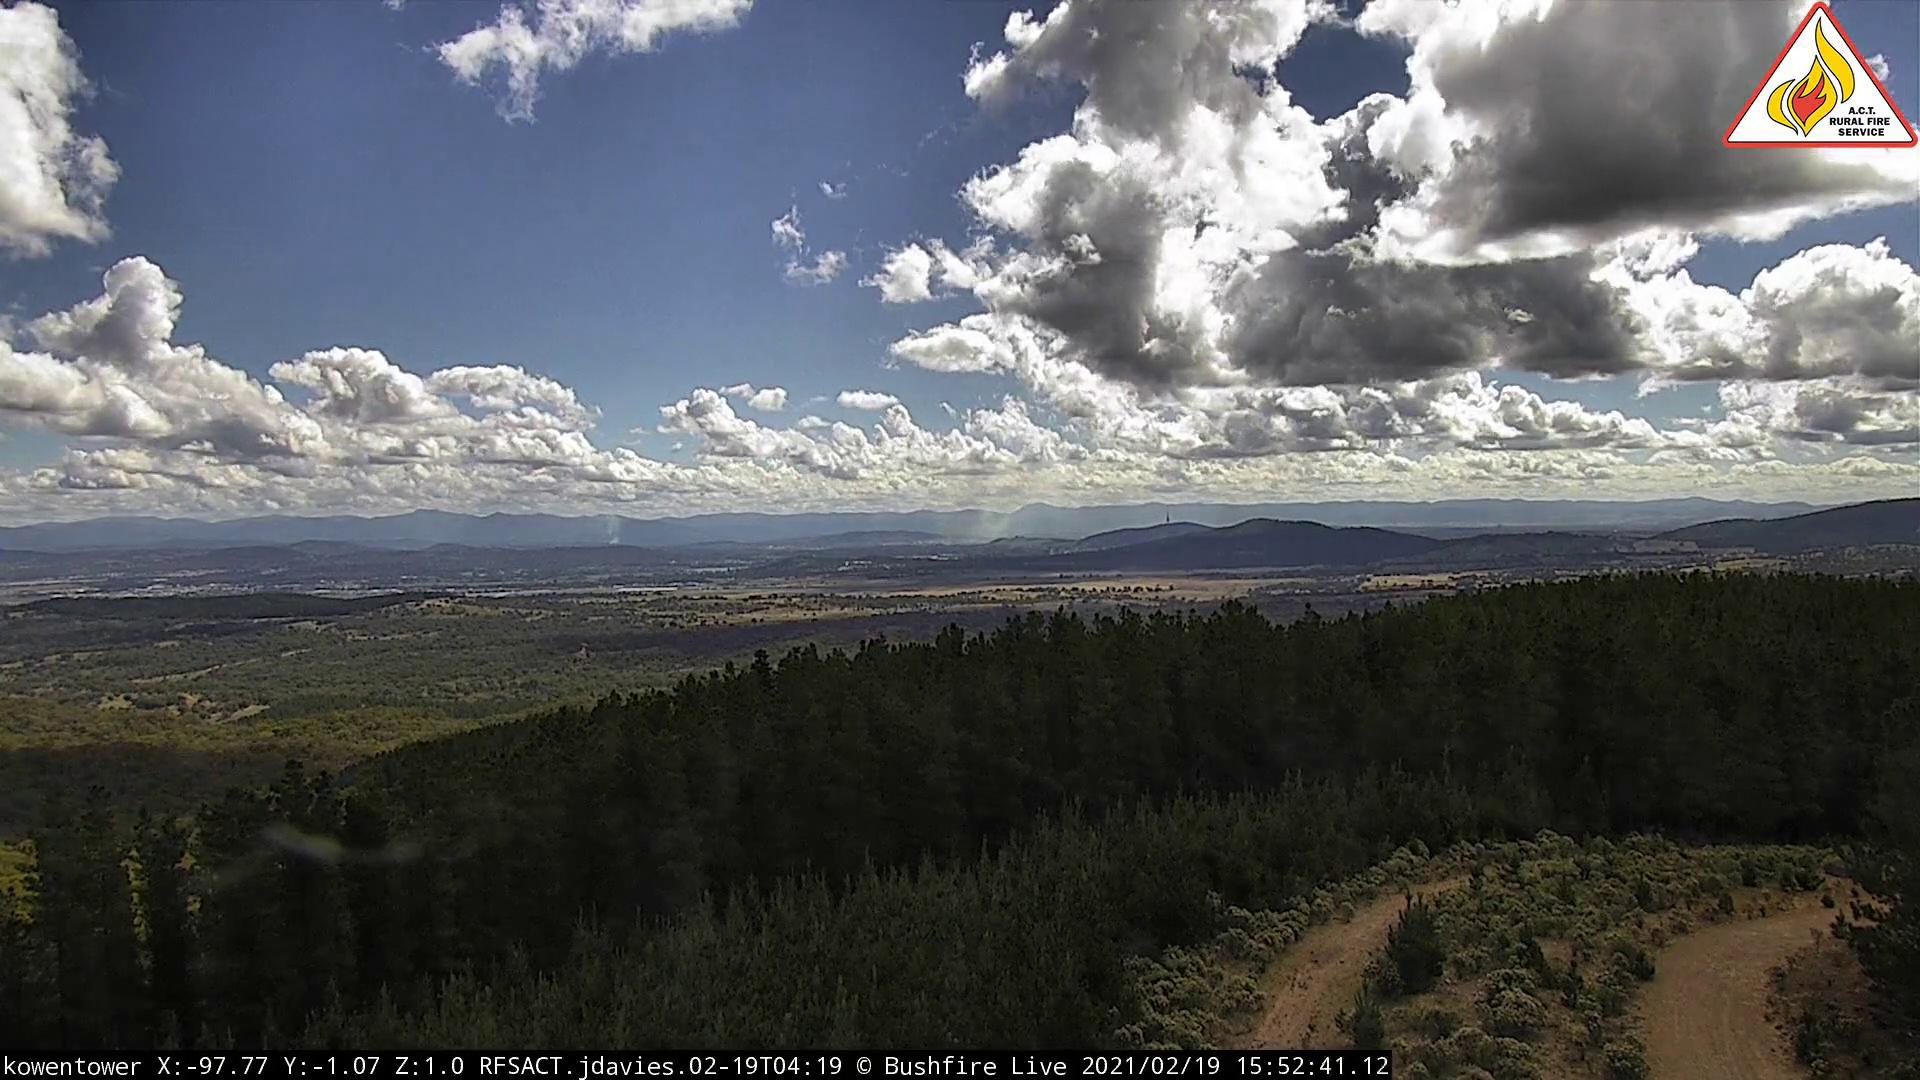Smoke: (944, 508, 1018, 553), (607, 525, 622, 553)
